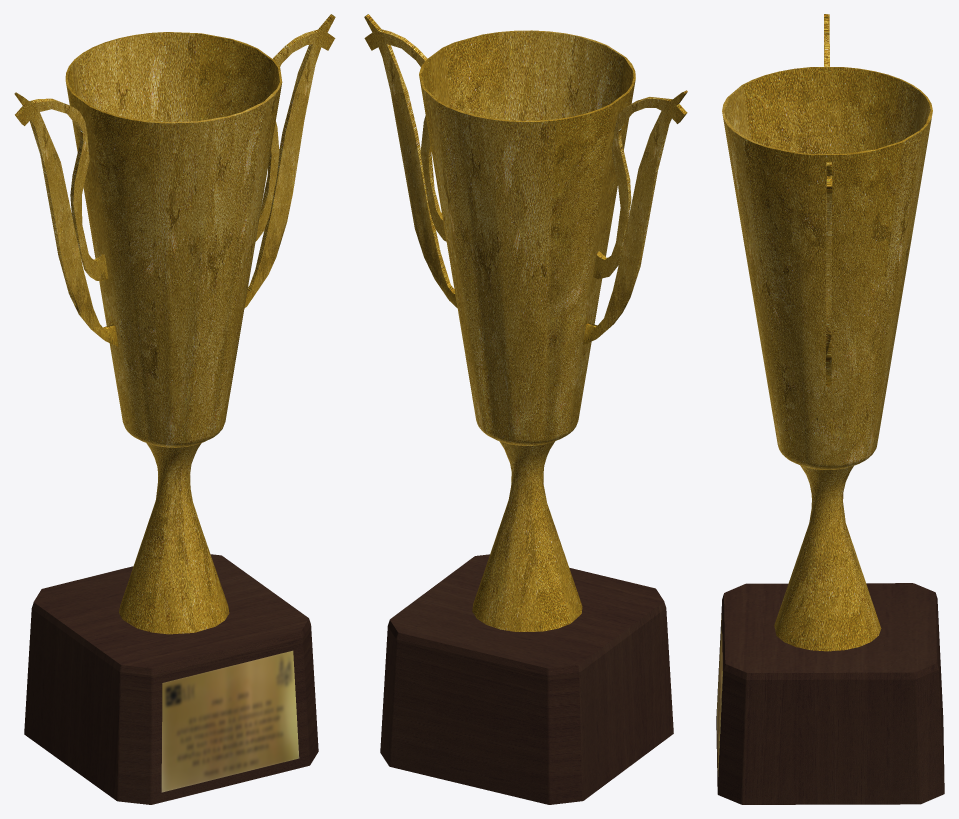
The model's file is Trophy 1.FBX.
3 renders of one model, left to right at view 1: azimuth 30°, elevation 25°; view 2: azimuth 150°, elevation 25°; view 3: azimuth 270°, elevation 25°, orthographic. The views are drawn at different scales.
Parts seen in each view (by area): view 1: trophy 1; view 2: trophy 1; view 3: trophy 1.
Boxes of the visible parts, left/top/right/bottom form: trophy 1: left=14, top=14, right=335, bottom=804; trophy 1: left=364, top=14, right=687, bottom=804; trophy 1: left=716, top=14, right=944, bottom=804.
Bounding box in the file's own units: 24.72 × 50.89 × 15.75.
Materials: 2 (2 with a texture image).
